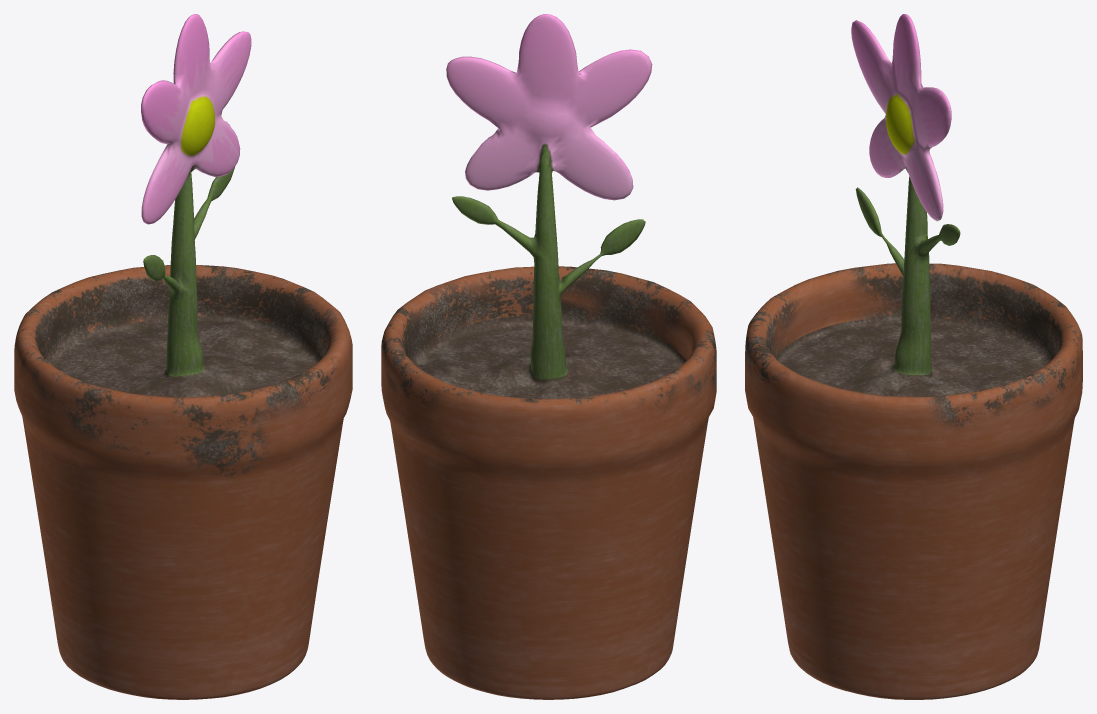
File: flor_en_maceta.glb
3 renders of one model, left to right at view 1: azimuth 30°, elevation 25°; view 2: azimuth 150°, elevation 25°; view 3: azimuth 270°, elevation 25°, orthographic.
Parts seen in each view (by area): view 1: pCylinder1; view 2: pCylinder1; view 3: pCylinder1.
Part boxes in pixels (x1,y1,x2,y2): pCylinder1: (14,14,352,699); pCylinder1: (381,14,716,699); pCylinder1: (745,14,1082,699).
Size of the model in its own units: 15.13 by 31.42 by 15.13.
Materials: 1 (1 with a texture image).
